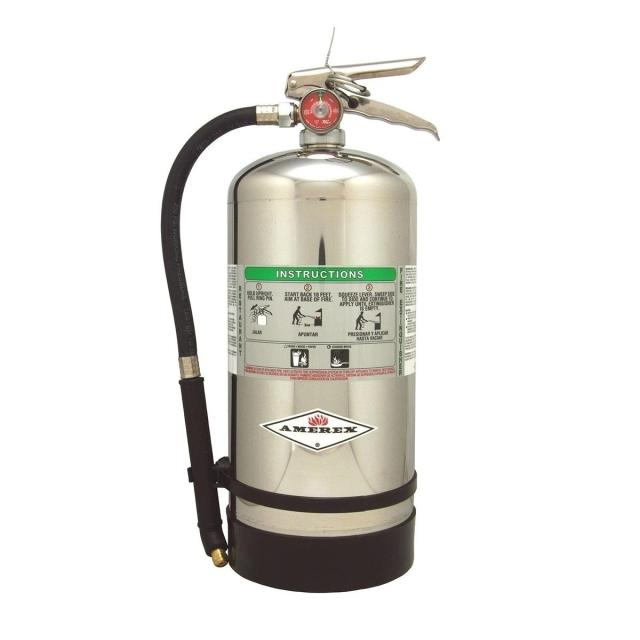fire_extinguisher: (155, 50, 443, 596)
